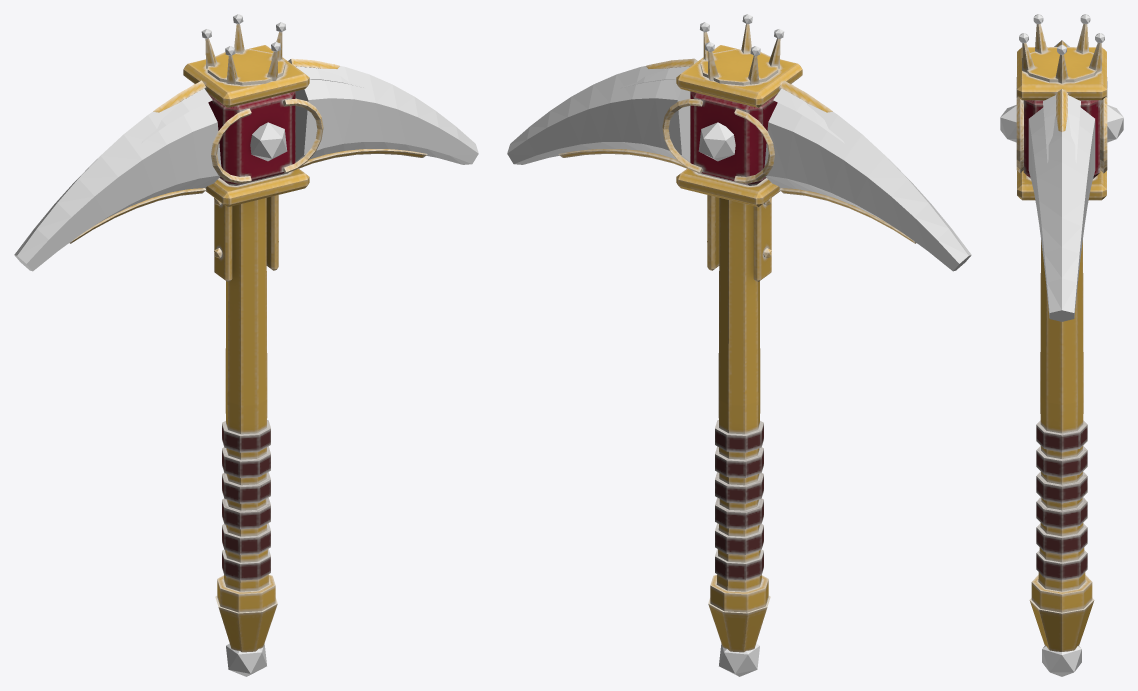
File: RubyPickaxe.glb
3 renders of one model, left to right at view 1: azimuth 30°, elevation 25°; view 2: azimuth 150°, elevation 25°; view 3: azimuth 270°, elevation 25°, orthographic.
Parts seen in each view (by area): view 1: Body__Tex, Head__Crystal, Head__Gem, Head__Accent; view 2: Body__Tex, Head__Crystal, Head__Gem, Head__Accent; view 3: Body__Tex, Head__Crystal, Head__Gem, Head__Accent.
Part boxes in pixels (x1,y1,x2,y2): Body__Tex: (69,24,427,652); Head__Crystal: (14,66,478,271); Head__Gem: (201,14,287,676); Head__Accent: (141,66,365,143); Body__Tex: (558,24,916,652); Head__Crystal: (507,66,971,271); Head__Gem: (698,14,784,676); Head__Accent: (620,66,844,143); Body__Tex: (1016,24,1107,651); Head__Crystal: (1028,40,1095,321); Head__Gem: (1000,14,1123,676); Head__Accent: (1043,95,1080,162).
Size of the model in its own units: 3.19 by 4.29 by 0.7412.
1 material, 1 textured.
